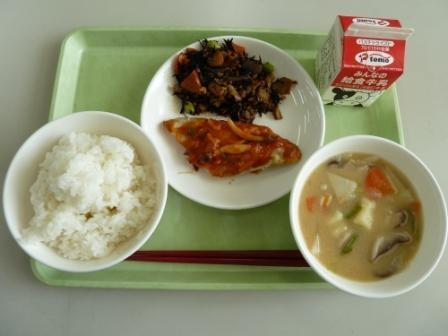Milk: (314, 13, 408, 106)
Rice: (6, 118, 168, 263)
Soups: (299, 151, 438, 283)
cooked food based on meat: (166, 112, 304, 181)
salad with sauce: (171, 37, 300, 113)
